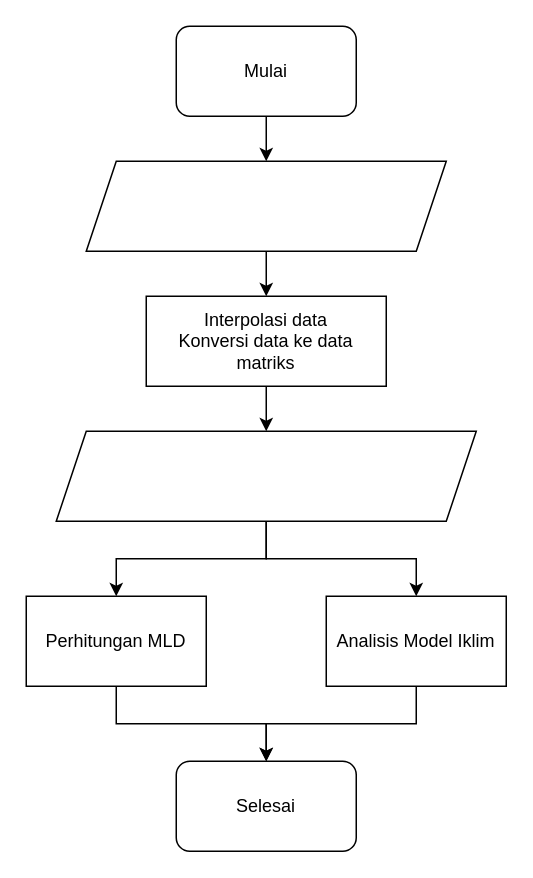
The diagram is 533 pixels wide and 878 high, and some of its shapes have lost their labels. Each missing label, with the centre of its shape:
Cuplik arus, elevasi, temperature, dan data meteorologi: the point at 265,475
Download data oseanografi dan data meteorologi: the point at 265,205
